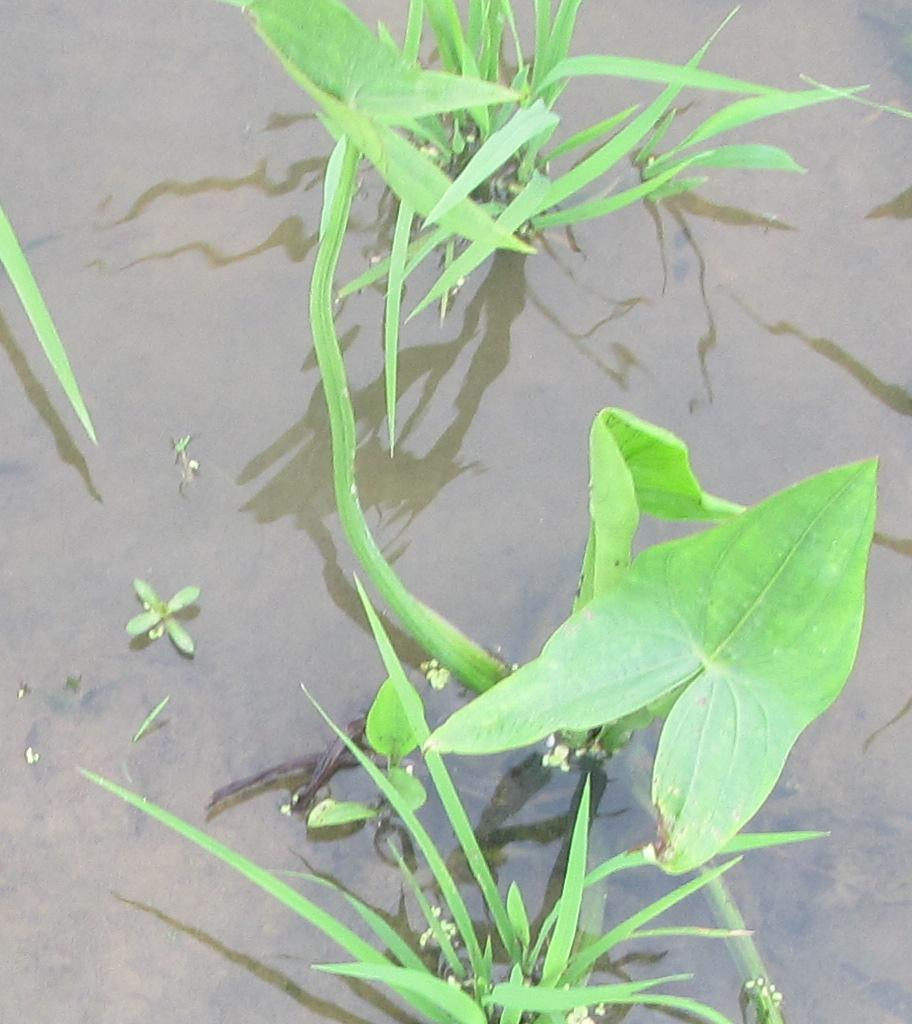Weed: (577, 403, 874, 844), (242, 2, 542, 250), (369, 674, 567, 780)
